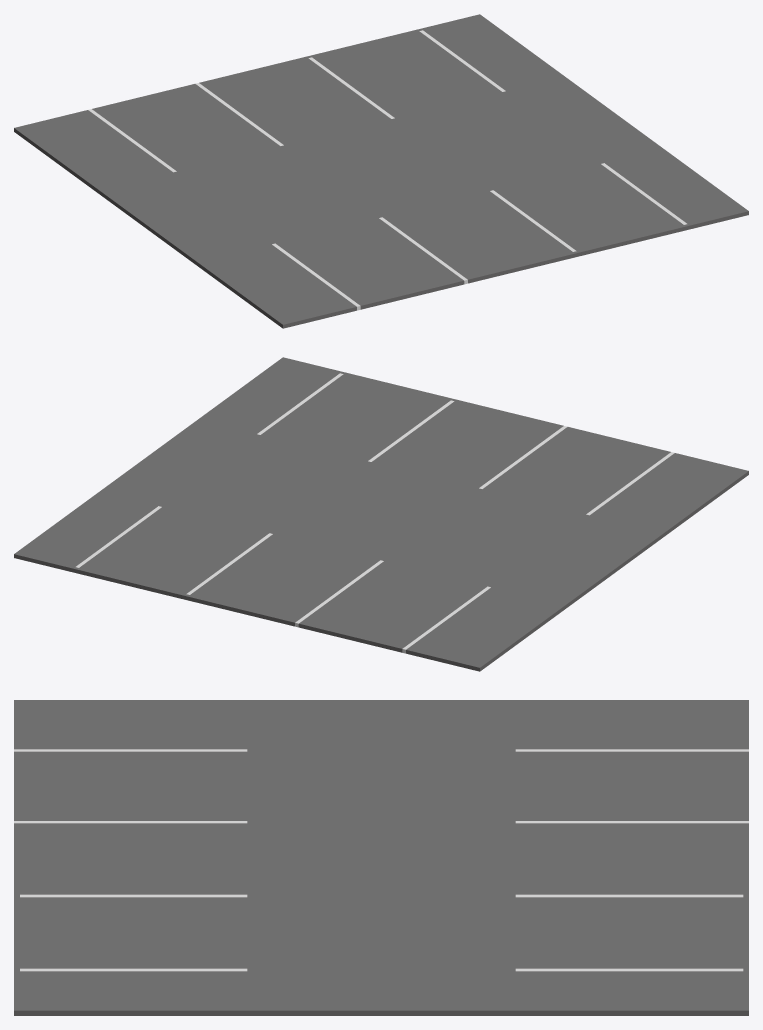
The model's file is carpark_tile.obj.
3 renders of one model, top to bottom at view 1: azimuth 30°, elevation 25°; view 2: azimuth 150°, elevation 25°; view 3: azimuth 270°, elevation 25°, orthographic. The views are drawn at different scales.
Bounding box in the file's own units: 126 × 1 × 126.
